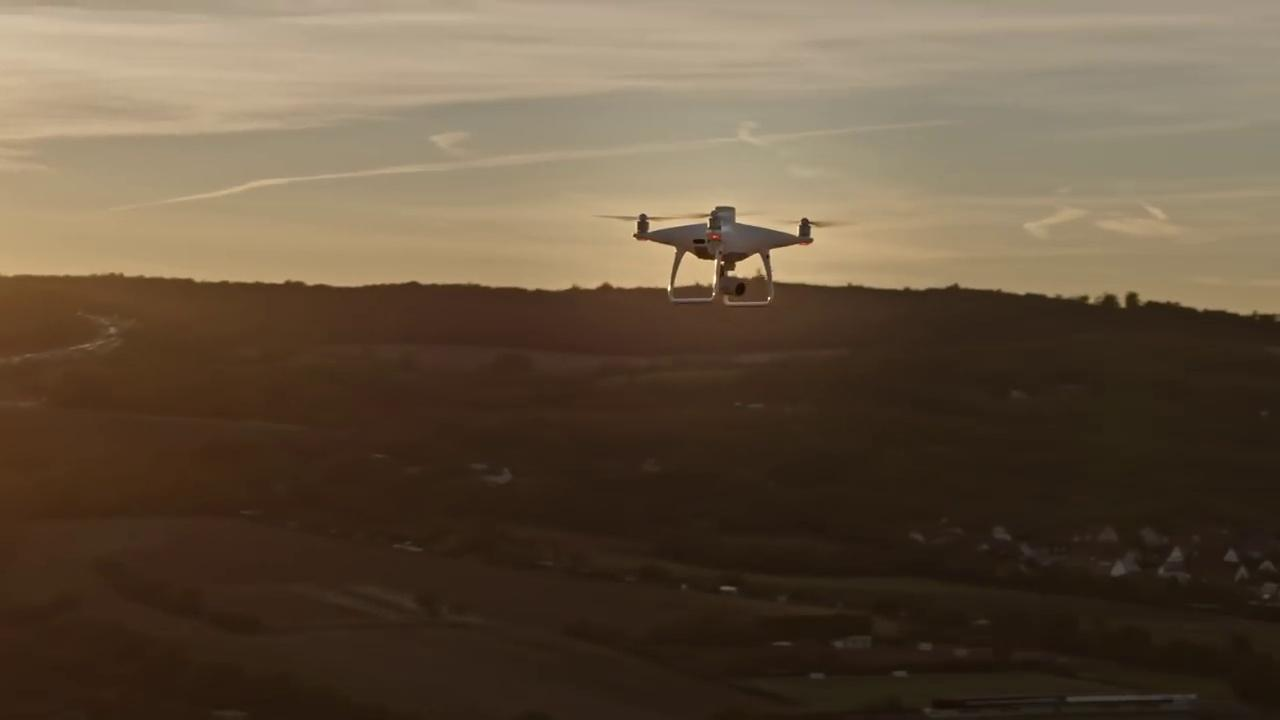drone: (598, 202, 861, 307)
